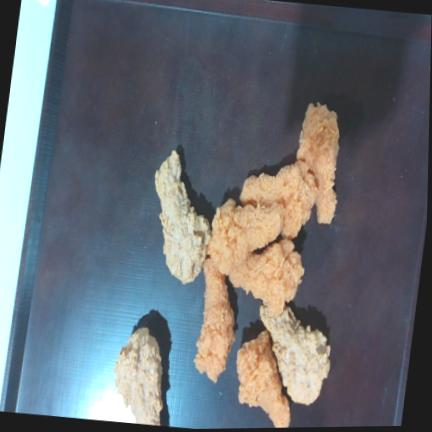chicken: (156, 151, 211, 284), (260, 305, 330, 405), (240, 160, 317, 239), (207, 199, 284, 275), (228, 239, 304, 315), (236, 332, 290, 428), (297, 103, 339, 223), (194, 259, 234, 382), (114, 328, 162, 425)
